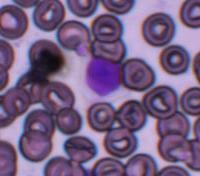L: (82, 57, 120, 98)
